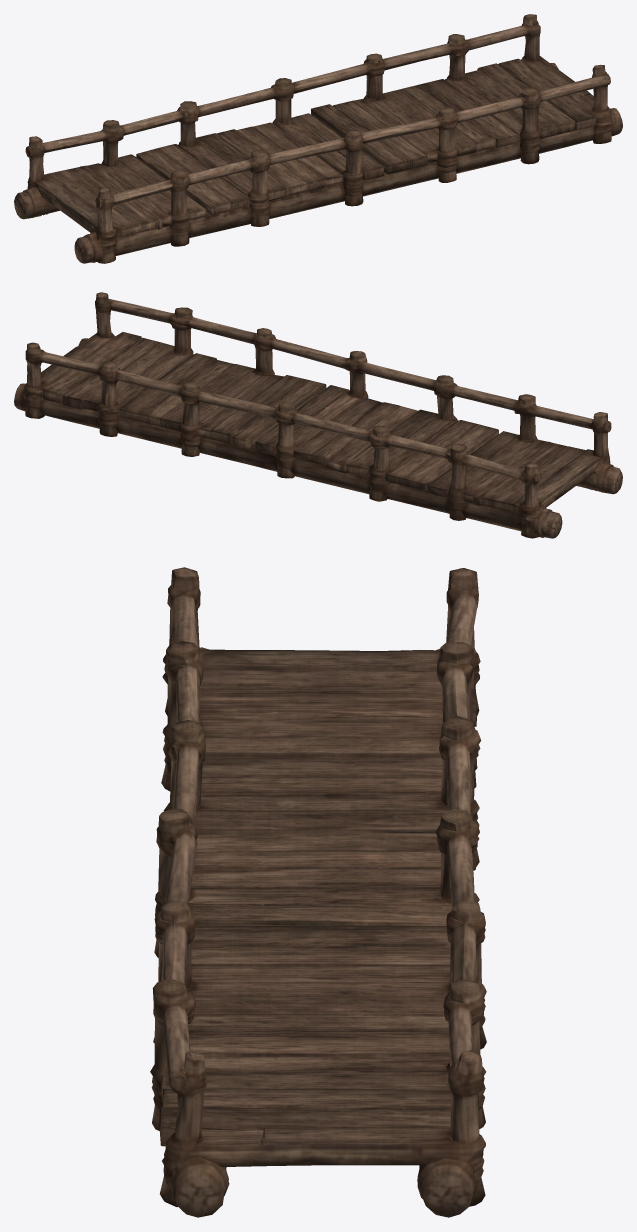
3 renders of one model, top to bottom at view 1: azimuth 30°, elevation 25°; view 2: azimuth 150°, elevation 25°; view 3: azimuth 270°, elevation 25°, orthographic. The views are drawn at different scales.
Parts seen in each view (by area): view 1: wood-footbridge; view 2: wood-footbridge; view 3: wood-footbridge.
Boxes of the visible parts, x1,y1,x2,y2 form: wood-footbridge: [14, 14, 622, 263]; wood-footbridge: [14, 292, 622, 538]; wood-footbridge: [150, 567, 486, 1217].
Size of the model in its own units: 11.55 by 1.52 by 3.14.
1 material, 1 textured.
